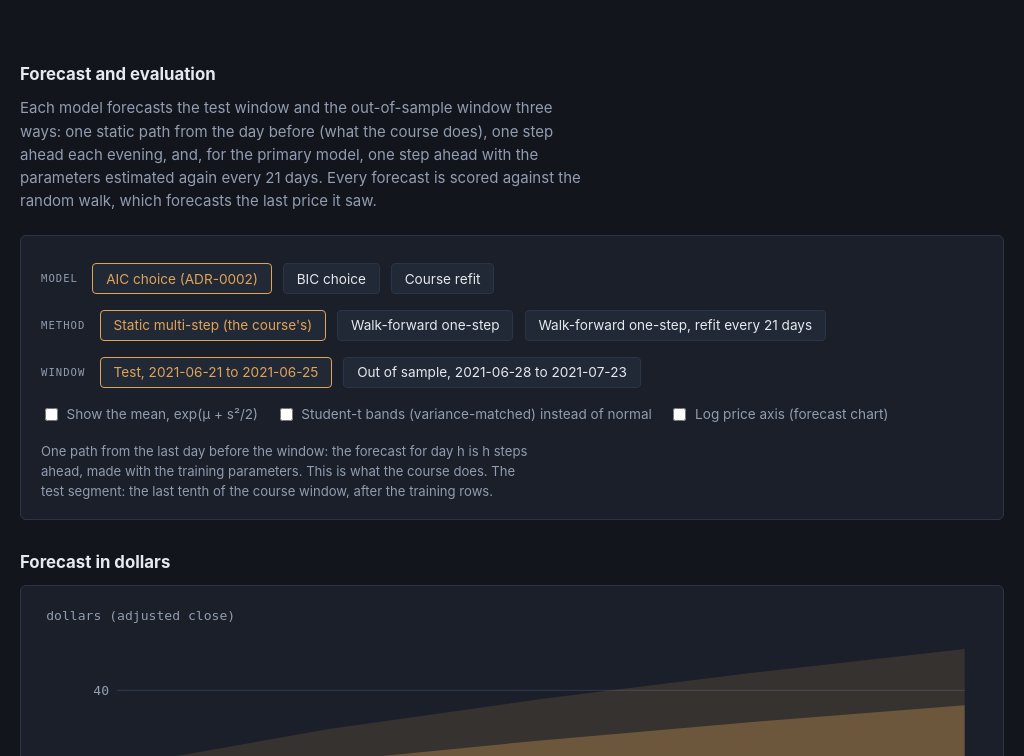
Test: ForecastPage › shows the mean only when asked, and switches the bands to the Student-t ones
Click the checkbox labelled "Show the mean, exp(μ + s²/2)" at (52, 414), box 45,408 -> 58,421
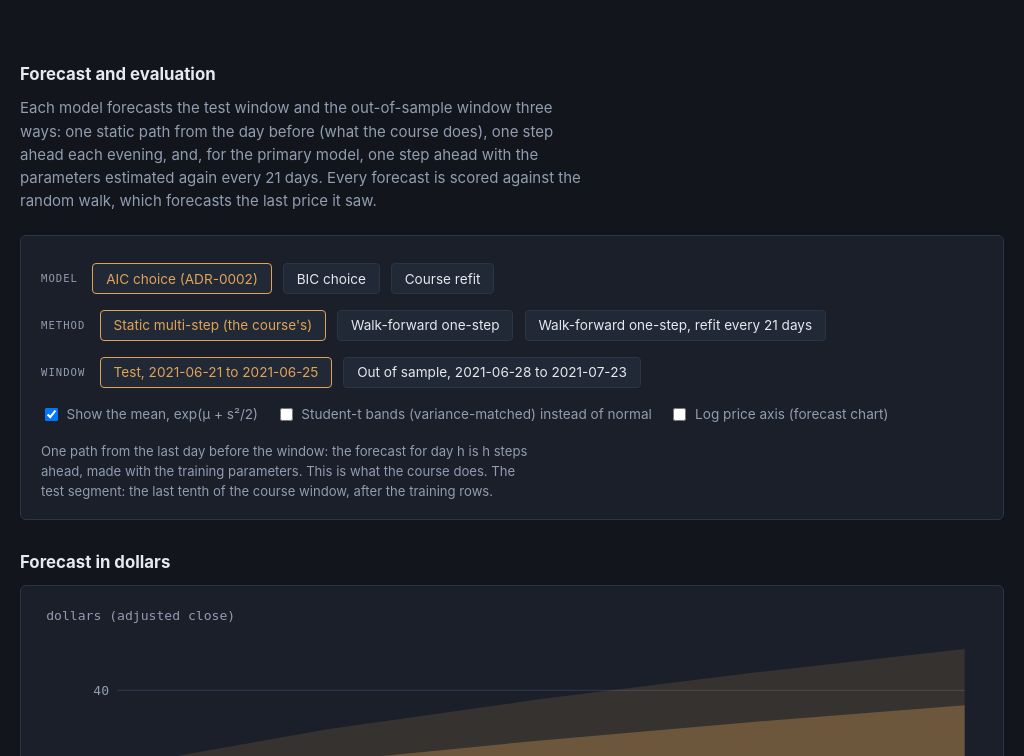
Click the checkbox labelled "Student-t bands (variance-matched) instead of normal" at (286, 414), box 280,408 -> 293,421
(page scrolled)
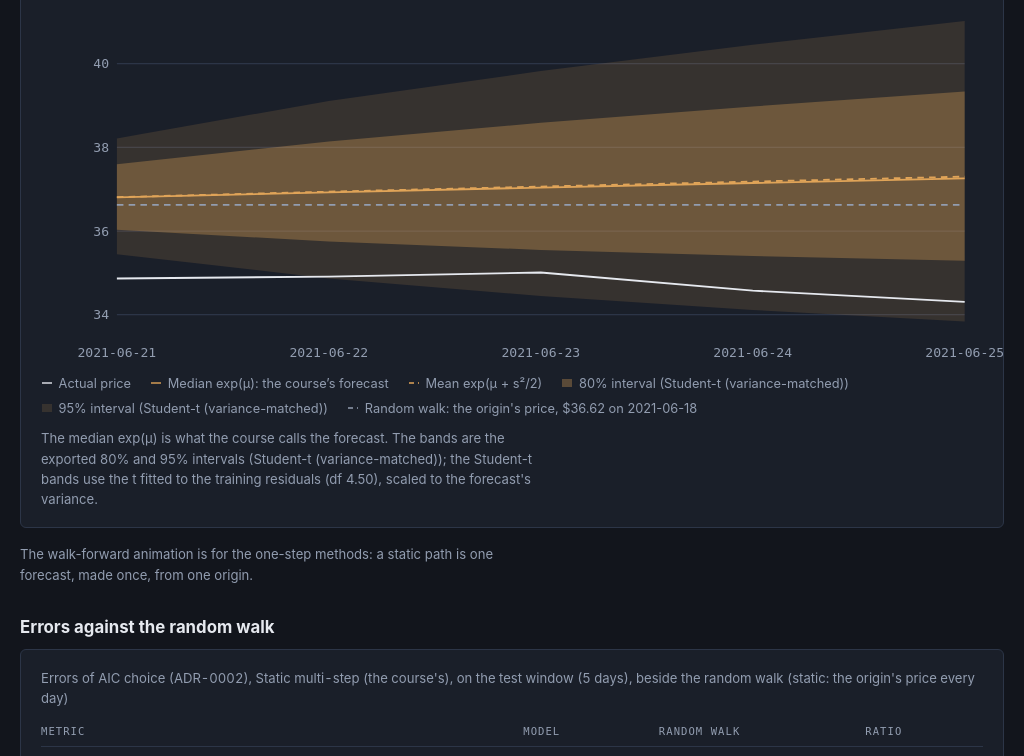
Expected: the list item "80% interval (Student-t (variance-matched))" is shown, 562,374 -> 849,394
